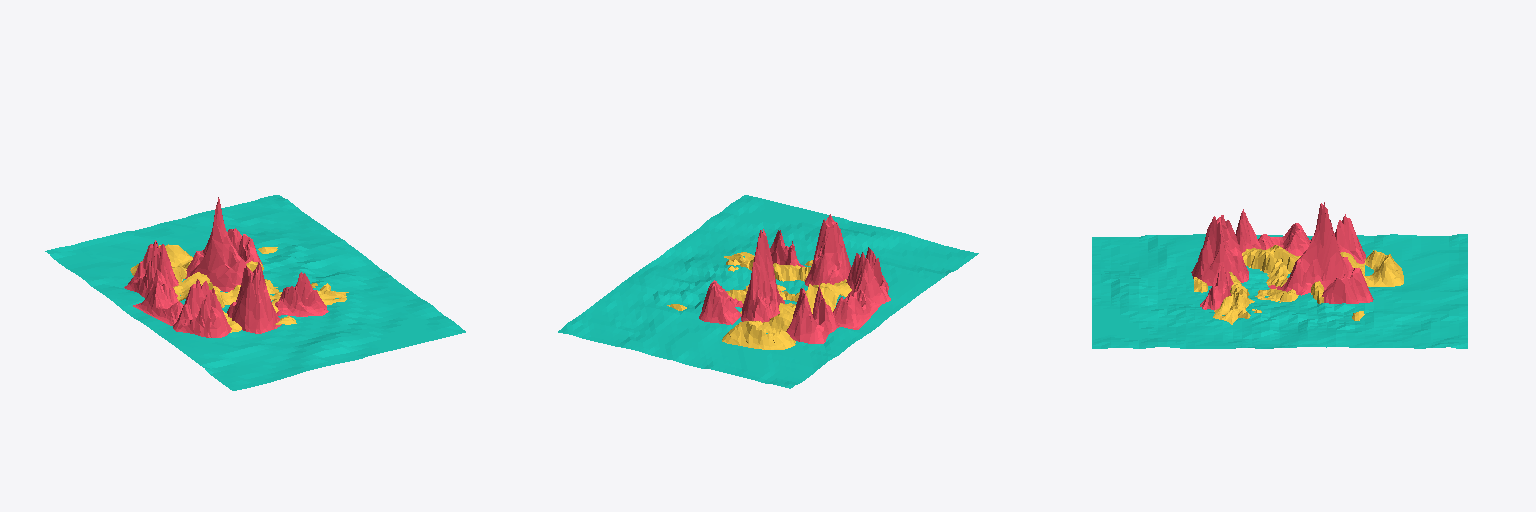
The model's file is mountain.obj.
3 views of the same model, side by side, from view 1: azimuth 30°, elevation 25°; view 2: azimuth 150°, elevation 25°; view 3: azimuth 270°, elevation 25° (orthographic).
Visible parts, largest first — view 1: water, 地形_8, 地形_5, 地形_3, land, 地形_2, 地形_6, 地形_1, 地形_4; view 2: water, land, 地形_8, 地形_5, 地形_2, 地形_3, 地形, 地形_4, 地形_1, 地形_6; view 3: water, land, 地形_8, 地形_5, 地形_4, 地形, 地形_1, 地形_2, 地形_6, 地形_7, 地形_3.
Boxes of the visible parts, box(x1,y1,x2,y2) form: water: box(45, 195, 465, 390); 地形_8: box(185, 197, 246, 291); 地形_5: box(227, 262, 281, 333); 地形_3: box(173, 279, 231, 337); land: box(172, 247, 330, 332); 地形_2: box(124, 240, 178, 297); 地形_6: box(275, 272, 328, 316); 地形_1: box(133, 283, 183, 325); 地形_4: box(227, 228, 262, 264); water: box(558, 195, 978, 388); land: box(667, 259, 851, 333); 地形_8: box(741, 229, 784, 322); 地形_5: box(805, 214, 850, 286); 地形_2: box(786, 283, 838, 343); 地形_3: box(846, 247, 890, 304); 地形: box(722, 321, 795, 349); 地形_4: box(699, 280, 742, 324); 地形_1: box(833, 290, 880, 329); 地形_6: box(770, 230, 804, 266); water: box(1092, 234, 1467, 348); land: box(1194, 245, 1364, 320); 地形_8: box(1268, 202, 1353, 295); 地形_5: box(1191, 216, 1248, 285); 地形_4: box(1322, 268, 1373, 303); 地形: box(1363, 250, 1403, 286); 地形_1: box(1258, 223, 1310, 255); 地形_2: box(1330, 214, 1365, 263); 地形_6: box(1200, 263, 1233, 310); 地形_7: box(1213, 291, 1254, 324); 地形_3: box(1221, 209, 1260, 252).
Bounding box in the file's own units: 7929 × 3054 × 11046.